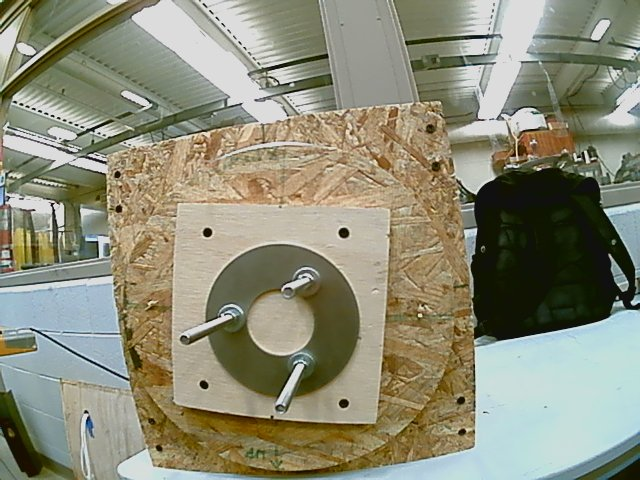bolt: (279, 283, 297, 301), (271, 401, 288, 417), (178, 334, 192, 347)
